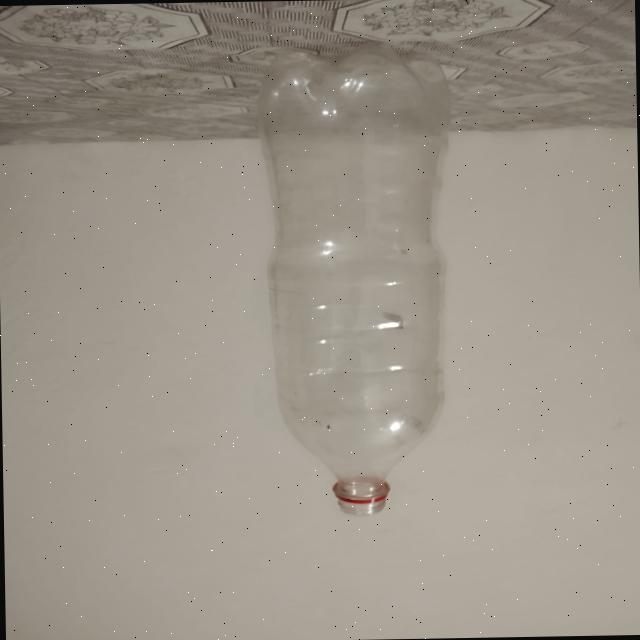bottle: (257, 38, 464, 516)
